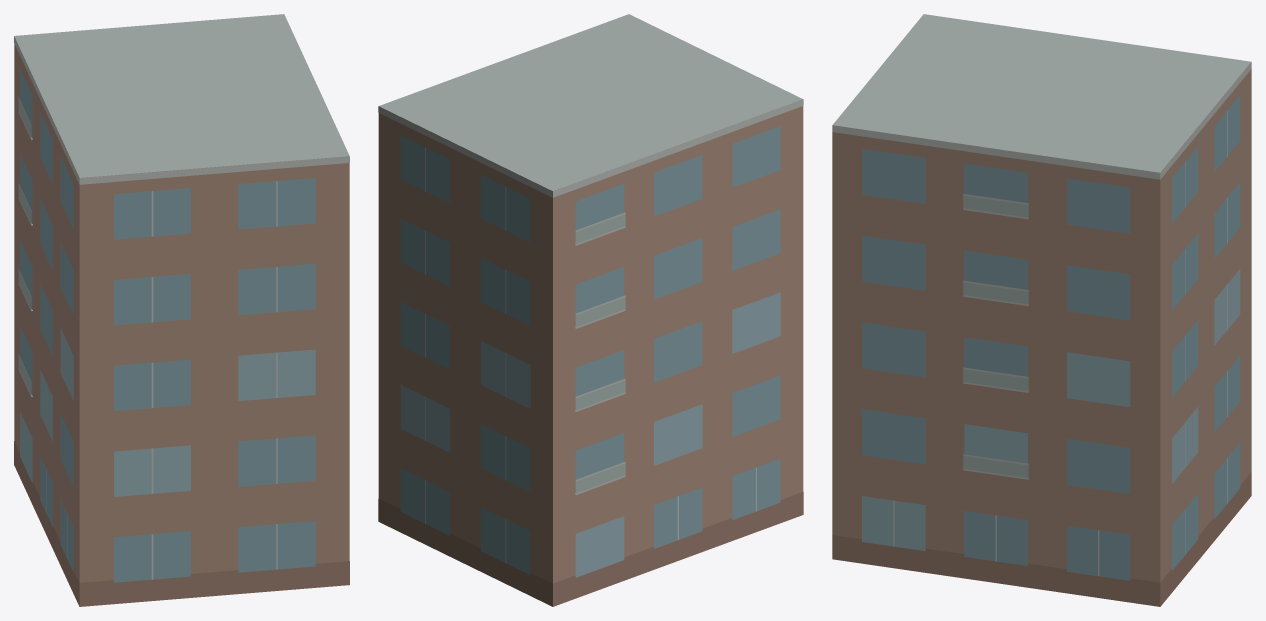
The model's file is survey-upis-32539730.glb.
3 renders of one model, left to right at view 1: azimuth 30°, elevation 25°; view 2: azimuth 150°, elevation 25°; view 3: azimuth 270°, elevation 25°, orthographic. The views are drawn at different scales.
Visible parts, largest first — view 1: survey-upis-32539730.tmp; view 2: survey-upis-32539730.tmp; view 3: survey-upis-32539730.tmp.
Part boxes in pixels (x1,y1,x2,y2): survey-upis-32539730.tmp: (14,14,349,606); survey-upis-32539730.tmp: (378,14,803,606); survey-upis-32539730.tmp: (832,14,1251,606).
Size of the model in its own units: 12.09 by 15.4 by 13.49.
